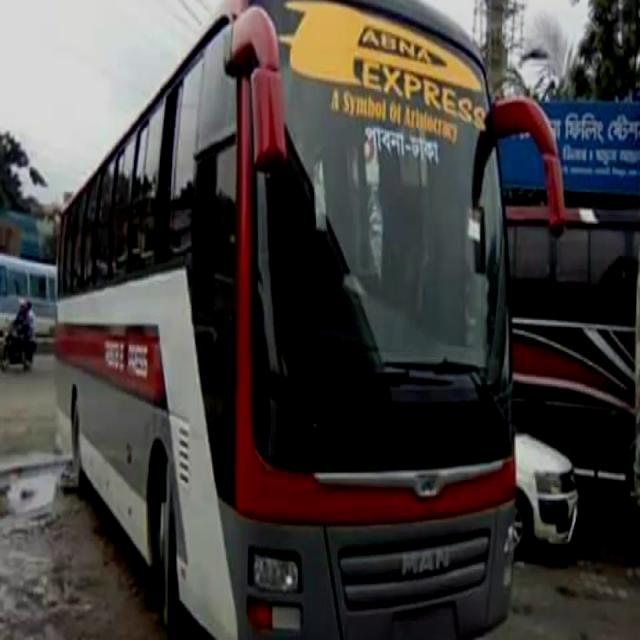bus: (56, 2, 566, 640)
